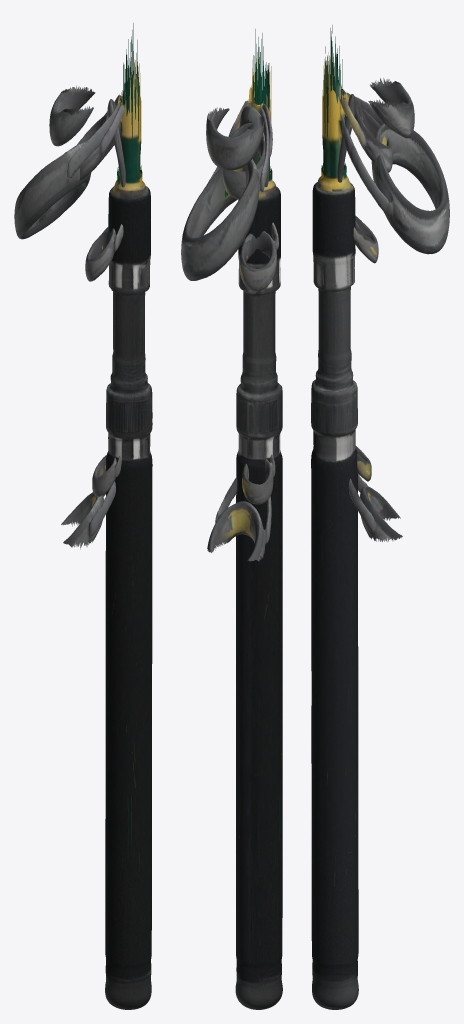
The model's file is carp_ostoja.glb.
3 renders of one model, left to right at view 1: azimuth 90°, elevation 25°; view 2: azimuth 150°, elevation 25°; view 3: azimuth 270°, elevation 25°, orthographic.
Visible parts, largest first — view 1: Handle, Seg0, Seg3, Seg2, Seg6, Seg4, Seg8, Seg9, Seg1; view 2: Handle, Seg0, Seg3, Seg2, Seg6, Seg4, Seg8, Seg1, Seg9; view 3: Handle, Seg0, Seg3, Seg2, Seg4, Seg6, Seg9, Seg8.
Part boxes in pixels (<box>): Handle: <box>105,165,152,1009</box>; Seg0: <box>14,62,141,239</box>; Seg3: <box>61,23,137,549</box>; Seg2: <box>49,82,135,146</box>; Seg6: <box>85,39,133,281</box>; Seg4: <box>77,53,137,180</box>; Seg8: <box>92,68,127,496</box>; Seg9: <box>107,99,125,187</box>; Seg1: <box>121,62,139,148</box>; Handle: <box>235,166,282,1009</box>; Seg0: <box>181,58,271,280</box>; Seg3: <box>207,29,271,561</box>; Seg2: <box>206,86,268,170</box>; Seg6: <box>239,33,278,291</box>; Seg4: <box>222,46,272,199</box>; Seg8: <box>242,50,275,504</box>; Seg1: <box>253,41,269,111</box>; Seg9: <box>239,106,269,187</box>; Handle: <box>311,163,358,1009</box>; Seg0: <box>322,57,449,254</box>; Seg3: <box>326,28,402,541</box>; Seg2: <box>324,78,414,138</box>; Seg4: <box>325,46,392,172</box>; Seg6: <box>330,36,378,263</box>; Seg9: <box>337,94,356,182</box>; Seg8: <box>355,446,371,481</box>.
Bounding box in the file's own units: 0.0503 × 0.6875 × 0.0869.
Materials: 1 (1 with a texture image).
